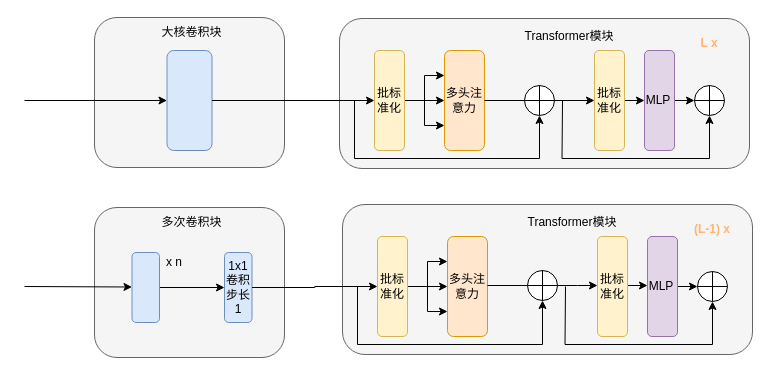
Image size: 770x375. Some labels were removed from this diagram. Each missing label, with the centre of its shape:
16x16 卷积 步长16: point 189,100
3x3 卷积 步长1或2: point 145,287
